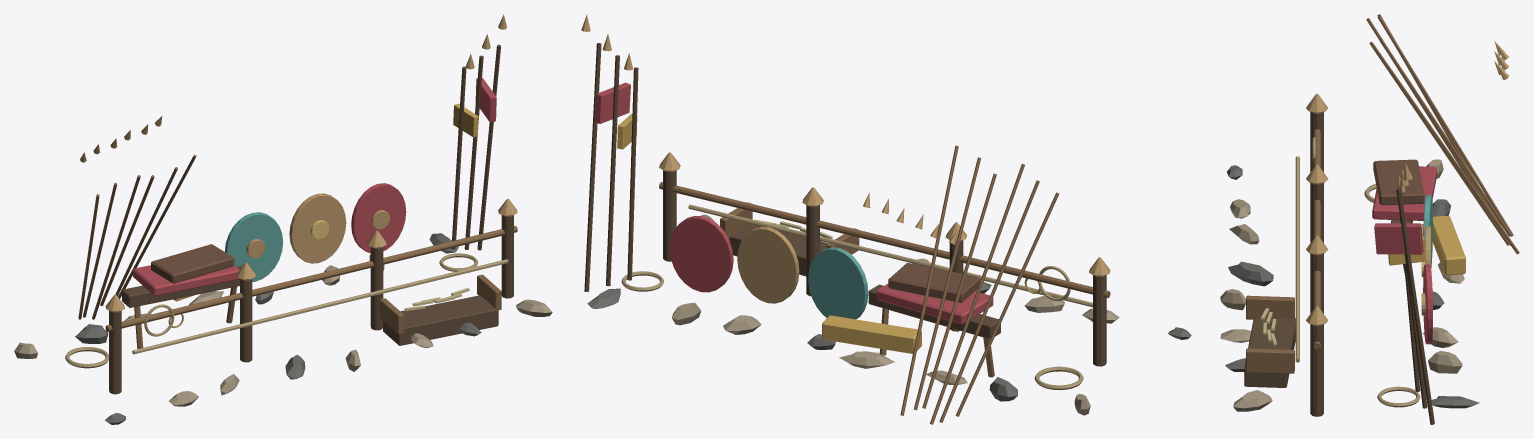
File: cavalry-staging-set.glb
3 views of the same model, side by side, from view 1: azimuth 30°, elevation 25°; view 2: azimuth 150°, elevation 25°; view 3: azimuth 270°, elevation 25° (orthographic). The views are drawn at different scales.
Parts seen in each view (by area): view 1: feed_trough_base, round_cavalry_shield_1, upper_hitch_rail, round_cavalry_shield_0, round_cavalry_shield_2, dark_saddle_pad, lower_rope_line, folded_red_saddle_blanket, saddle_stand_beam, hitch_post_0, hitch_post_3, hitch_post_1 (+14 smaller); view 2: round_cavalry_shield_2, round_cavalry_shield_1, round_cavalry_shield_0, upper_hitch_rail, ochre_tack_roll, dark_saddle_pad, folded_red_saddle_blanket, lower_rope_line, saddle_stand_beam, upright_lance_2, hitch_post_0, upright_lance_1 (+12 smaller); view 3: feed_trough_base, dark_saddle_pad, ochre_tack_roll, small_red_pennant, upright_lance_2, folded_red_saddle_blanket, hitch_post_3, feed_trough_right_lip, feed_trough_left_lip, lower_rope_line, stacked_lance_5, stacked_lance_1 (+23 smaller).
Boxes of the visible parts, x1=… form: feed_trough_base: x1=383, y1=295, x2=498, y2=345; round_cavalry_shield_1: x1=289, y1=193, x2=346, y2=263; upper_hitch_rail: x1=105, y1=226, x2=517, y2=331; round_cavalry_shield_0: x1=225, y1=212, x2=282, y2=281; round_cavalry_shield_2: x1=351, y1=183, x2=406, y2=252; dark_saddle_pad: x1=151, y1=244, x2=234, y2=283; lower_rope_line: x1=132, y1=259, x2=508, y2=354; folded_red_saddle_blanket: x1=133, y1=265, x2=239, y2=296; saddle_stand_beam: x1=122, y1=265, x2=242, y2=307; hitch_post_0: x1=109, y1=310, x2=121, y2=394; hitch_post_3: x1=501, y1=215, x2=513, y2=298; hitch_post_1: x1=240, y1=278, x2=252, y2=362; round_cavalry_shield_2: x1=669, y1=216, x2=733, y2=292; round_cavalry_shield_1: x1=737, y1=226, x2=799, y2=303; round_cavalry_shield_0: x1=808, y1=247, x2=868, y2=319; upper_hitch_rail: x1=659, y1=182, x2=1110, y2=298; ochre_tack_roll: x1=822, y1=315, x2=921, y2=353; dark_saddle_pad: x1=888, y1=262, x2=980, y2=302; folded_red_saddle_blanket: x1=876, y1=283, x2=993, y2=324; lower_rope_line: x1=688, y1=204, x2=1092, y2=307; saddle_stand_beam: x1=868, y1=284, x2=1000, y2=339; upright_lance_2: x1=584, y1=43, x2=601, y2=291; hitch_post_0: x1=1093, y1=275, x2=1106, y2=366; upright_lance_1: x1=606, y1=55, x2=619, y2=286; feed_trough_base: x1=1244, y1=317, x2=1295, y2=387; dark_saddle_pad: x1=1373, y1=159, x2=1424, y2=205; ochre_tack_roll: x1=1432, y1=215, x2=1465, y2=275; small_red_pennant: x1=1374, y1=223, x2=1423, y2=254; upright_lance_2: x1=1396, y1=188, x2=1434, y2=424; folded_red_saddle_blanket: x1=1372, y1=166, x2=1436, y2=220; hitch_post_3: x1=1310, y1=324, x2=1323, y2=416; feed_trough_right_lip: x1=1246, y1=348, x2=1294, y2=373; feed_trough_left_lip: x1=1246, y1=295, x2=1294, y2=319; lower_rope_line: x1=1295, y1=156, x2=1299, y2=362; stacked_lance_5: x1=1371, y1=44, x2=1519, y2=254; stacked_lance_1: x1=1377, y1=16, x2=1513, y2=236.
Bounding box in the file's own units: 6.29 × 3.17 × 3.08.
